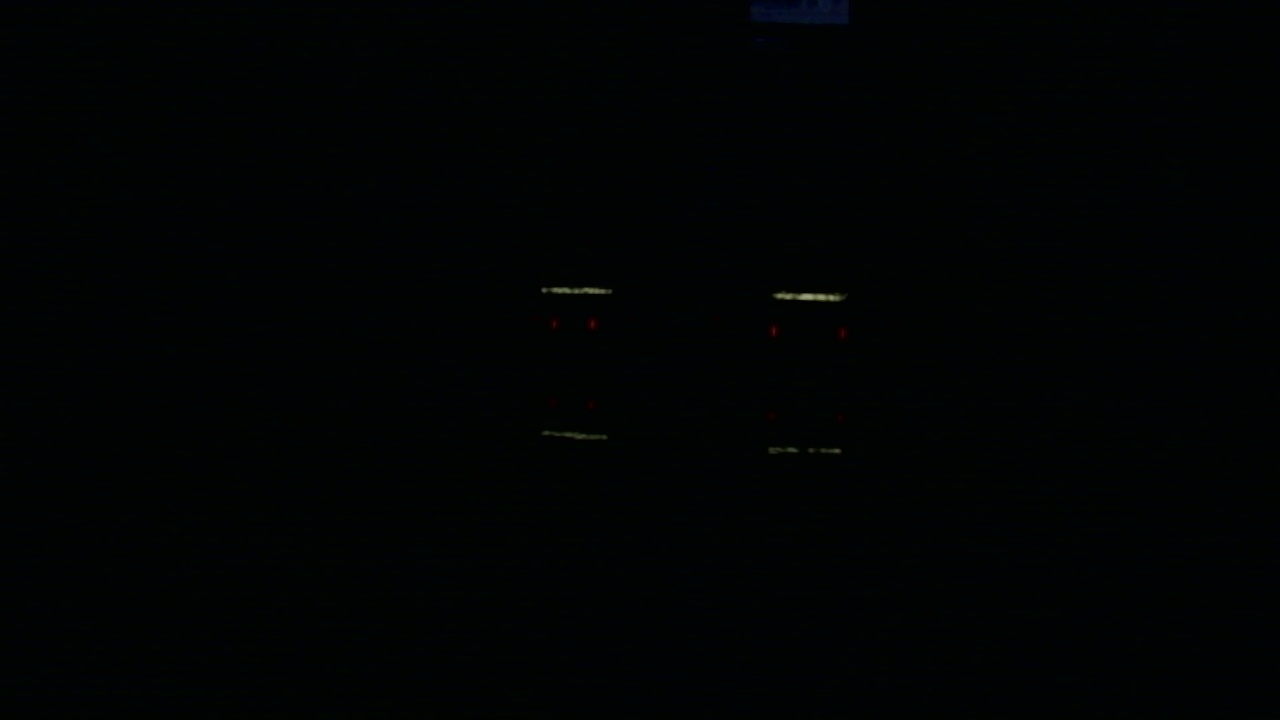lamp: (840, 323, 847, 340), (771, 322, 777, 341), (591, 318, 595, 326), (553, 317, 556, 326)
pair1: (553, 319, 594, 327)
pair2: (771, 324, 847, 341)
